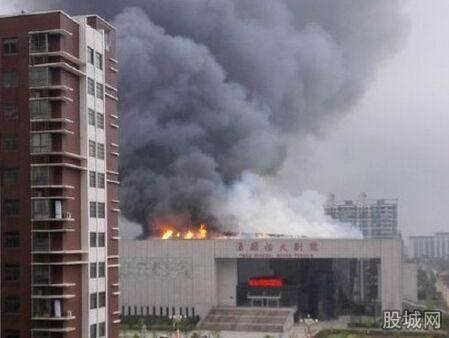fire: (157, 221, 207, 241)
